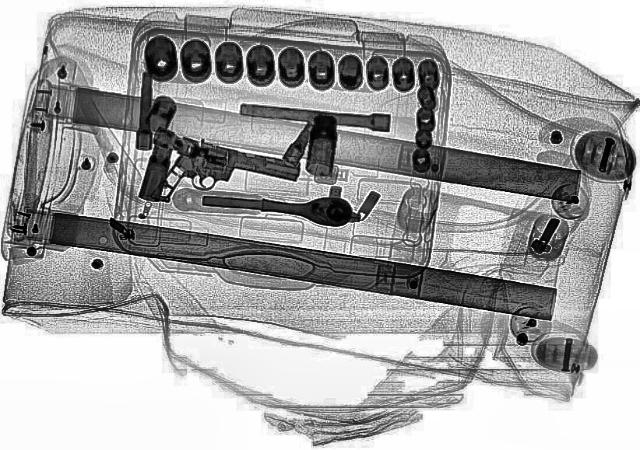Gun: (148, 137, 304, 225)
